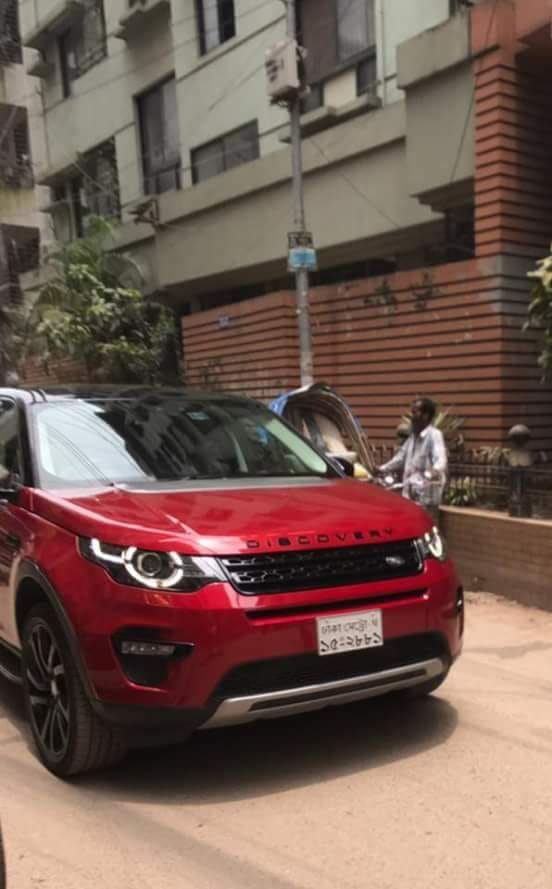registration_plate: (316, 608, 384, 657)
